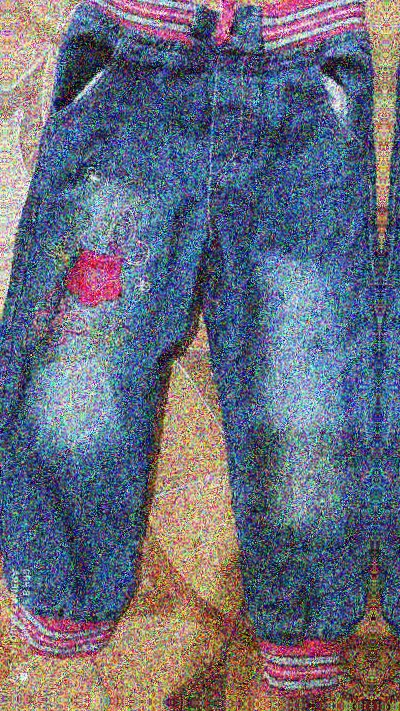Pants: (2, 0, 386, 630), (375, 0, 400, 638)
